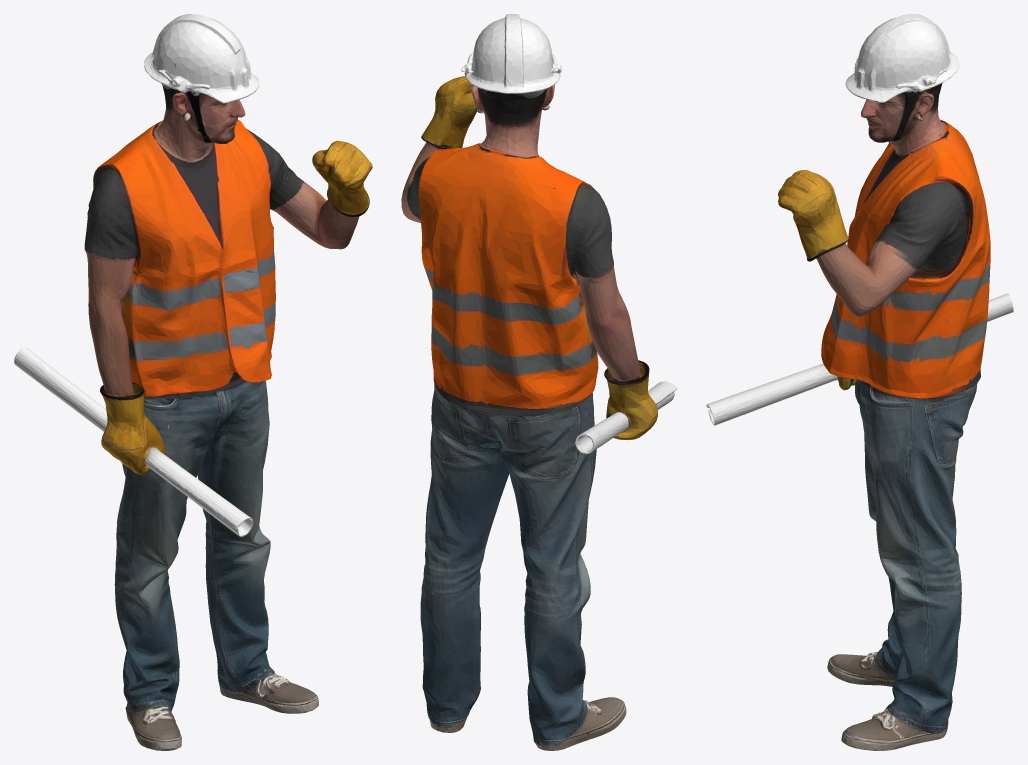
File: trabmed.glb
The picture shows the model from 3 angles, left to right: view 1: azimuth 30°, elevation 25°; view 2: azimuth 150°, elevation 25°; view 3: azimuth 270°, elevation 25°; orthographic projection. The views are drawn at different scales.
Parts seen in each view (by area): view 1: m.obj; view 2: m.obj; view 3: m.obj.
Boxes of the visible parts, bbox=[...] form: m.obj: bbox=[14, 14, 372, 750]; m.obj: bbox=[401, 14, 677, 750]; m.obj: bbox=[706, 14, 1013, 750].
Bounding box in the file's own units: 0.7423 × 1.9 × 0.7639.
Materials: 1 (1 with a texture image).
